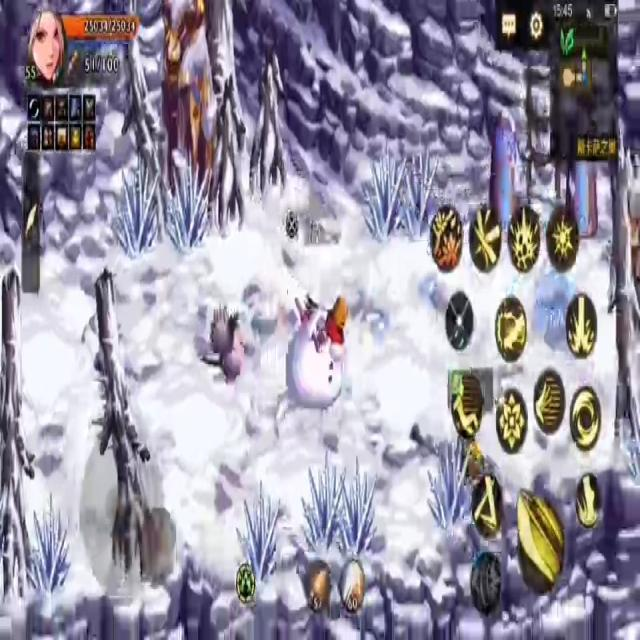player: (274, 285, 350, 426)
